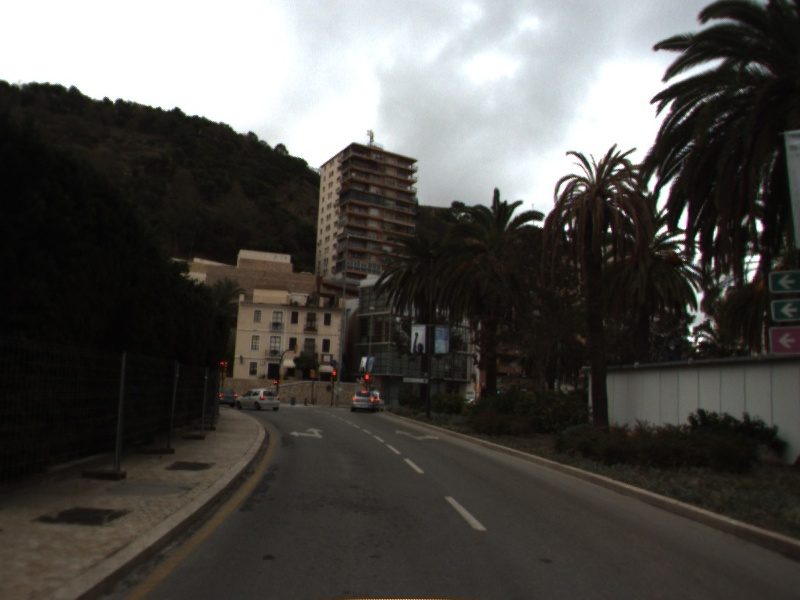STRAIGHT_LEFT: (287, 425, 327, 440)
STRAIGHT_RIGHT: (393, 427, 442, 443)
